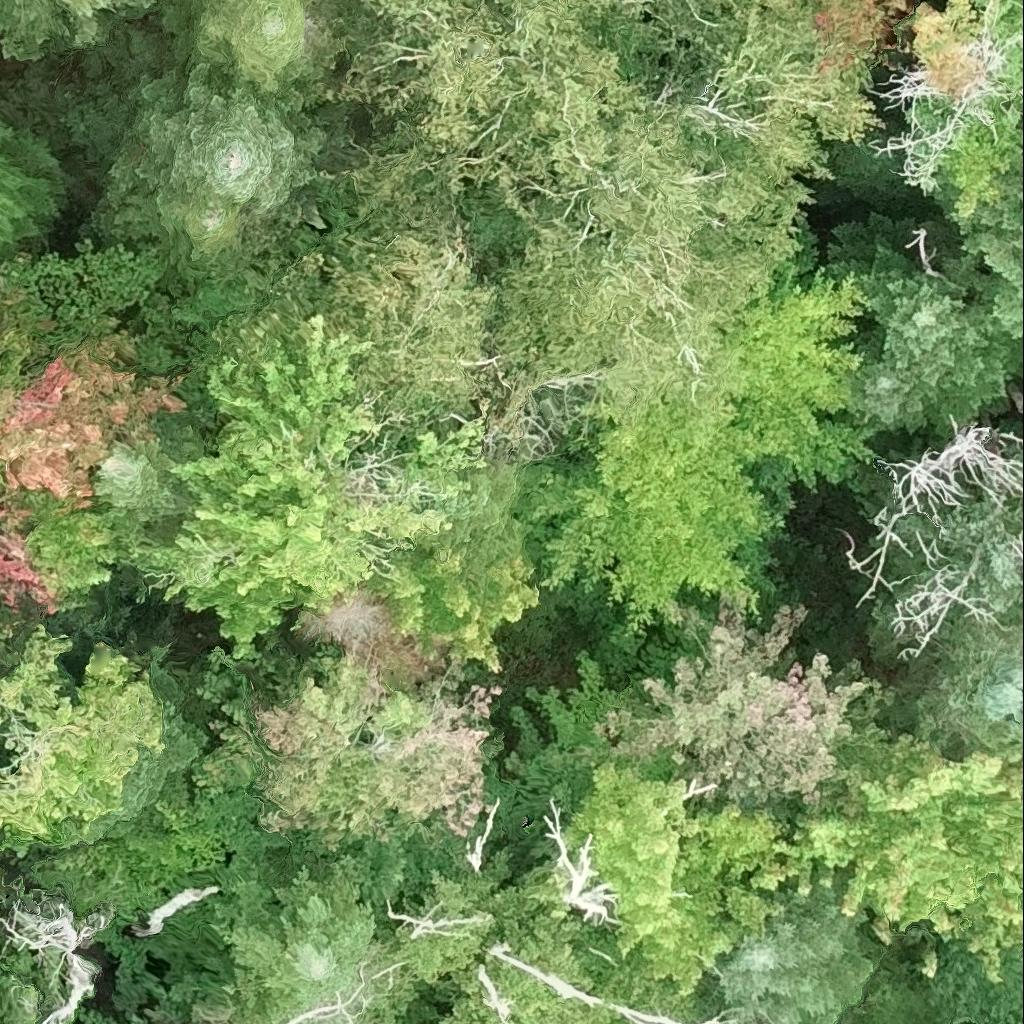crown: (338, 0, 884, 430), (122, 319, 540, 670), (514, 652, 803, 995), (530, 388, 809, 639), (771, 716, 1023, 983), (193, 639, 509, 841), (595, 595, 875, 809), (59, 58, 330, 273), (0, 331, 187, 611), (827, 214, 1023, 445), (721, 263, 886, 508), (0, 634, 168, 858), (209, 834, 406, 1023), (328, 210, 496, 423), (870, 460, 1023, 669), (851, 423, 1023, 600), (895, 0, 1023, 214), (724, 886, 877, 1023), (153, 0, 325, 92), (2, 886, 113, 1023), (914, 630, 1023, 759), (87, 408, 206, 526), (965, 171, 1023, 337), (0, 117, 70, 250), (0, 0, 156, 57), (276, 961, 407, 1023), (810, 0, 930, 61), (190, 1003, 215, 1023), (1009, 389, 1023, 413), (1023, 555, 1023, 556)
